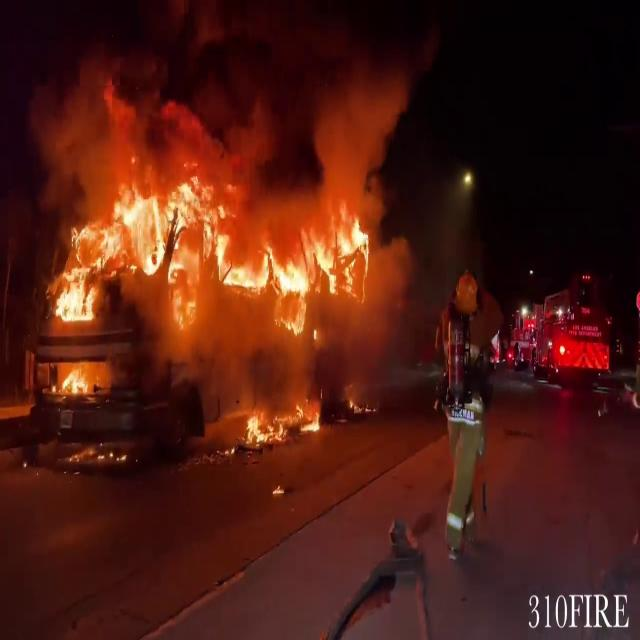Fire: (39, 164, 379, 360), (238, 397, 323, 447)
Smoke: (23, 0, 415, 204)
